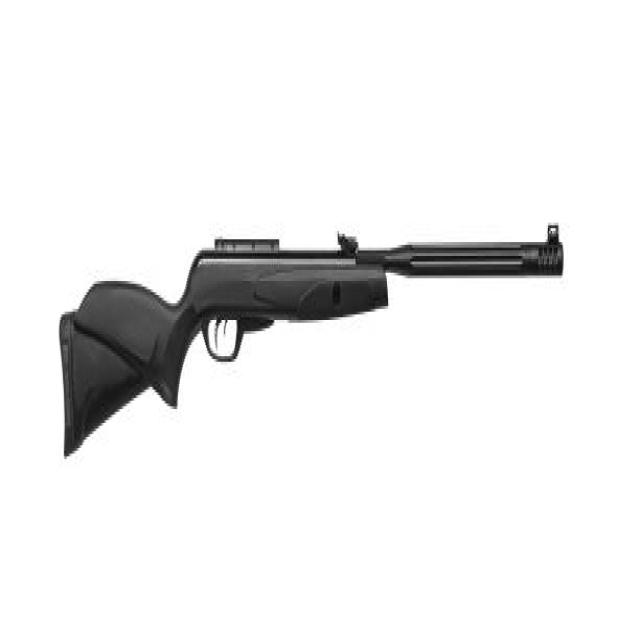rifle: (57, 203, 571, 493)
